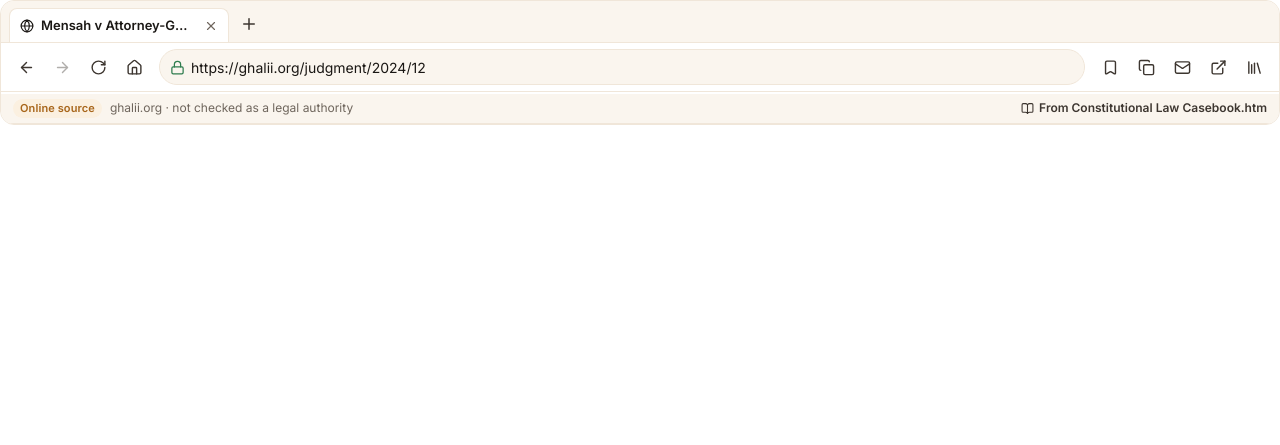
Test: WebBrowser › saves the page as a reference, keeping the book it came from
Click the button named "Save this page". click: {"x": 1110, "y": 67}
box: left=1093, top=50, right=1127, bottom=84
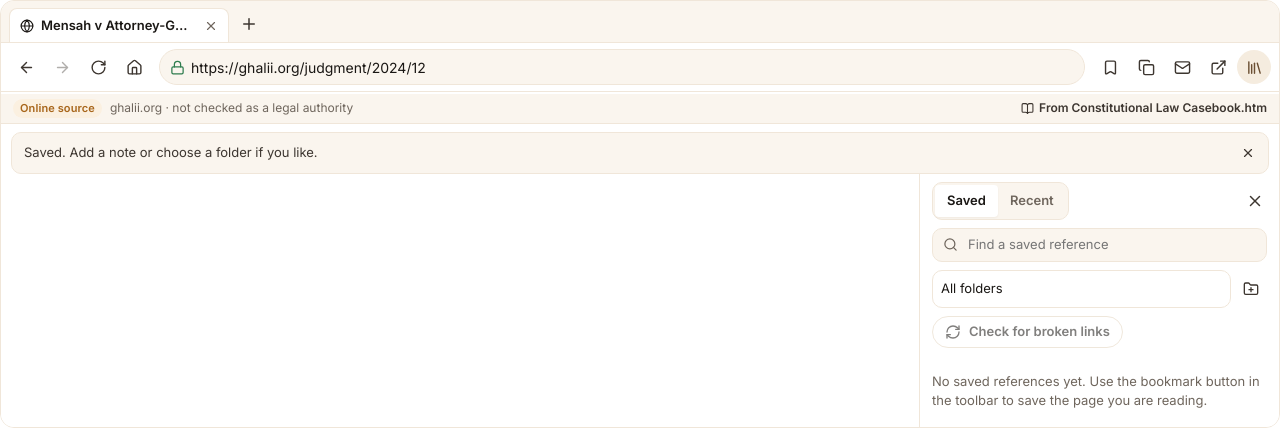
Now the element with class "web-panel" is shown, box left=919, top=174, right=1279, bottom=426
